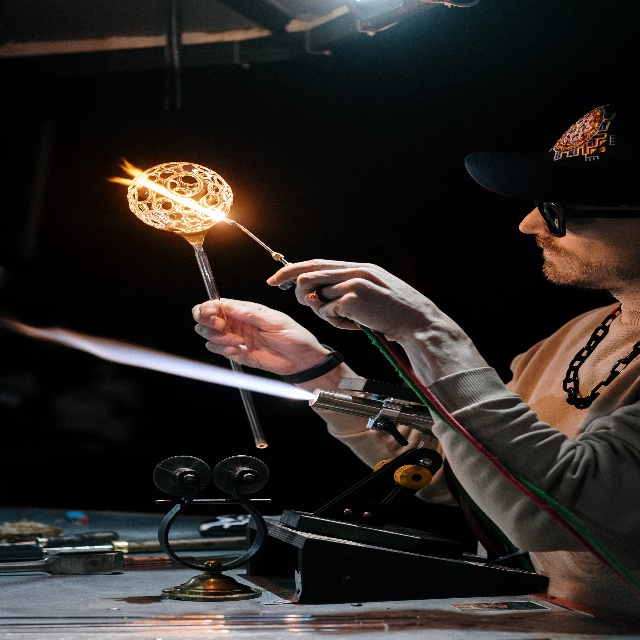Gafas: (534, 200, 640, 237)
Sin_guantes: (267, 258, 435, 345), (191, 298, 320, 376)
